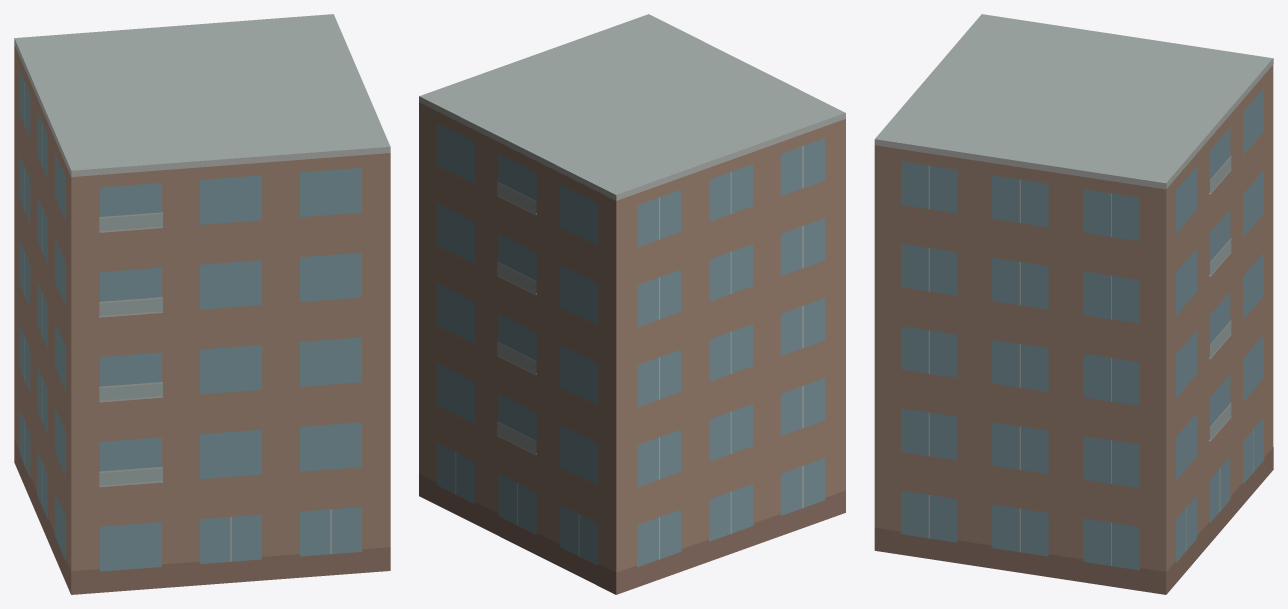
Rendered from survey-upis-32968637.glb.
3 renders of one model, left to right at view 1: azimuth 30°, elevation 25°; view 2: azimuth 150°, elevation 25°; view 3: azimuth 270°, elevation 25°, orthographic. The views are drawn at different scales.
Visible parts, largest first — view 1: survey-upis-32968637.tmp; view 2: survey-upis-32968637.tmp; view 3: survey-upis-32968637.tmp.
Boxes of the visible parts, <box> form: survey-upis-32968637.tmp: <box>14,14,390,594</box>; survey-upis-32968637.tmp: <box>419,14,845,594</box>; survey-upis-32968637.tmp: <box>874,14,1273,594</box>.
Size of the model in its own units: 14.57 by 16.5 by 14.5.
